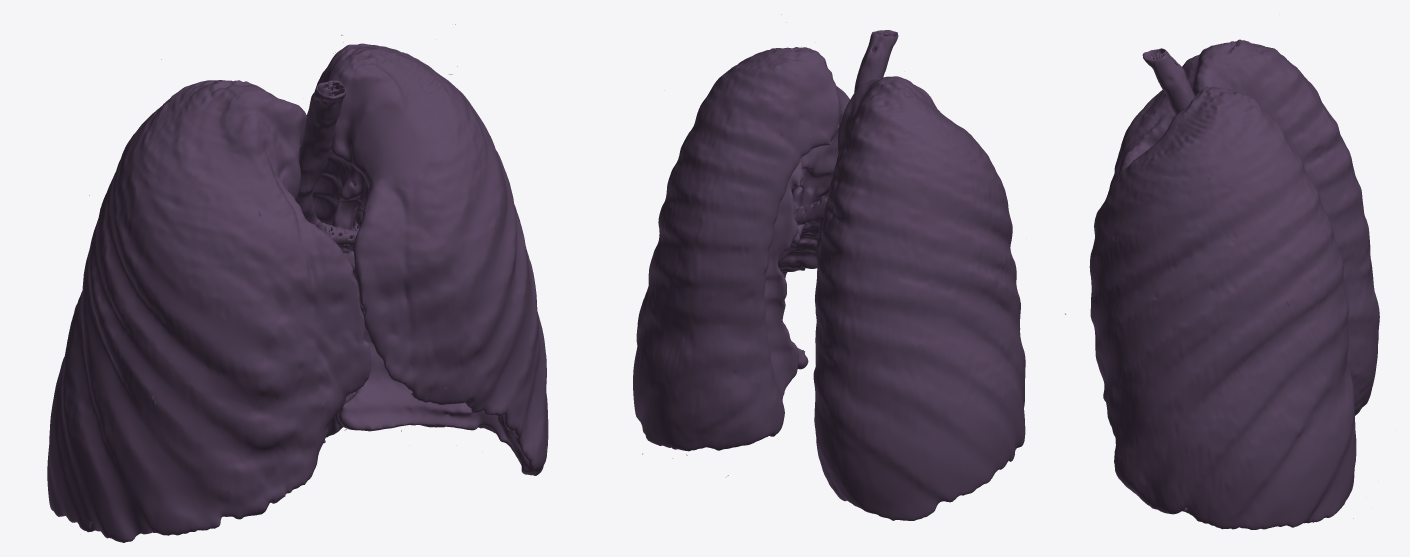
The model's file is sick-lung.glb.
3 views of the same model, side by side, from view 1: azimuth 30°, elevation 25°; view 2: azimuth 150°, elevation 25°; view 3: azimuth 270°, elevation 25° (orthographic). The views are drawn at different scales.
Parts seen in each view (by area): view 1: SickLung; view 2: SickLung; view 3: SickLung.
Boxes of the visible parts, x1,y1,x2,y2 form: SickLung: (47,24,548,542); SickLung: (633,14,1025,520); SickLung: (1065,39,1379,529).
Bounding box in the file's own units: 320 × 297 × 221.
